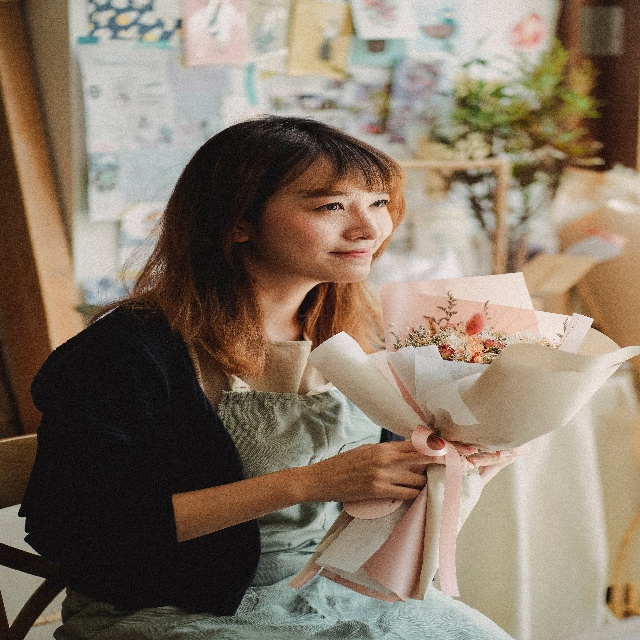Sin_guantes: (327, 442, 444, 499)
